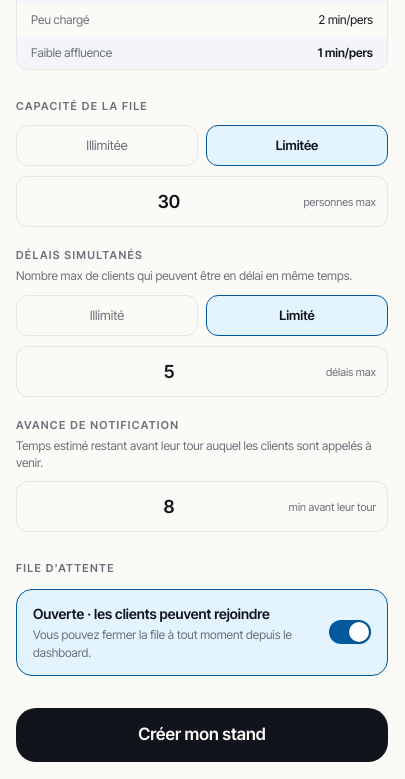
Test: ScreenVendorSetup › toggles is_open state when Toggle is clicked
(page scrolled)
Step 1. Click the switch → (202, 632), box [16,589,388,676]
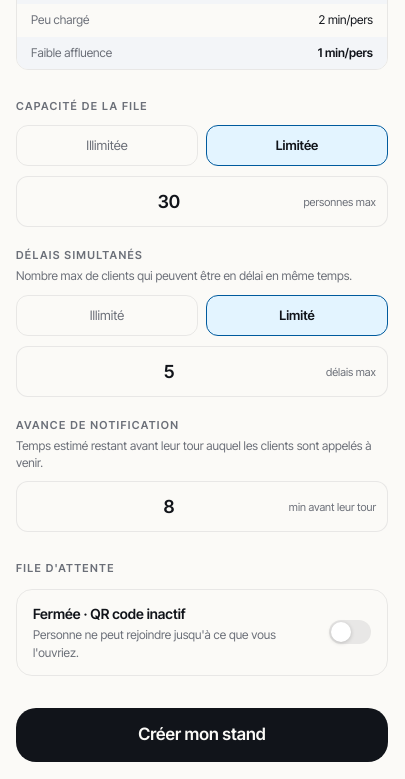
expect the text "Fermée · QR code inactif" is shown: met, box [33,605,186,622]
